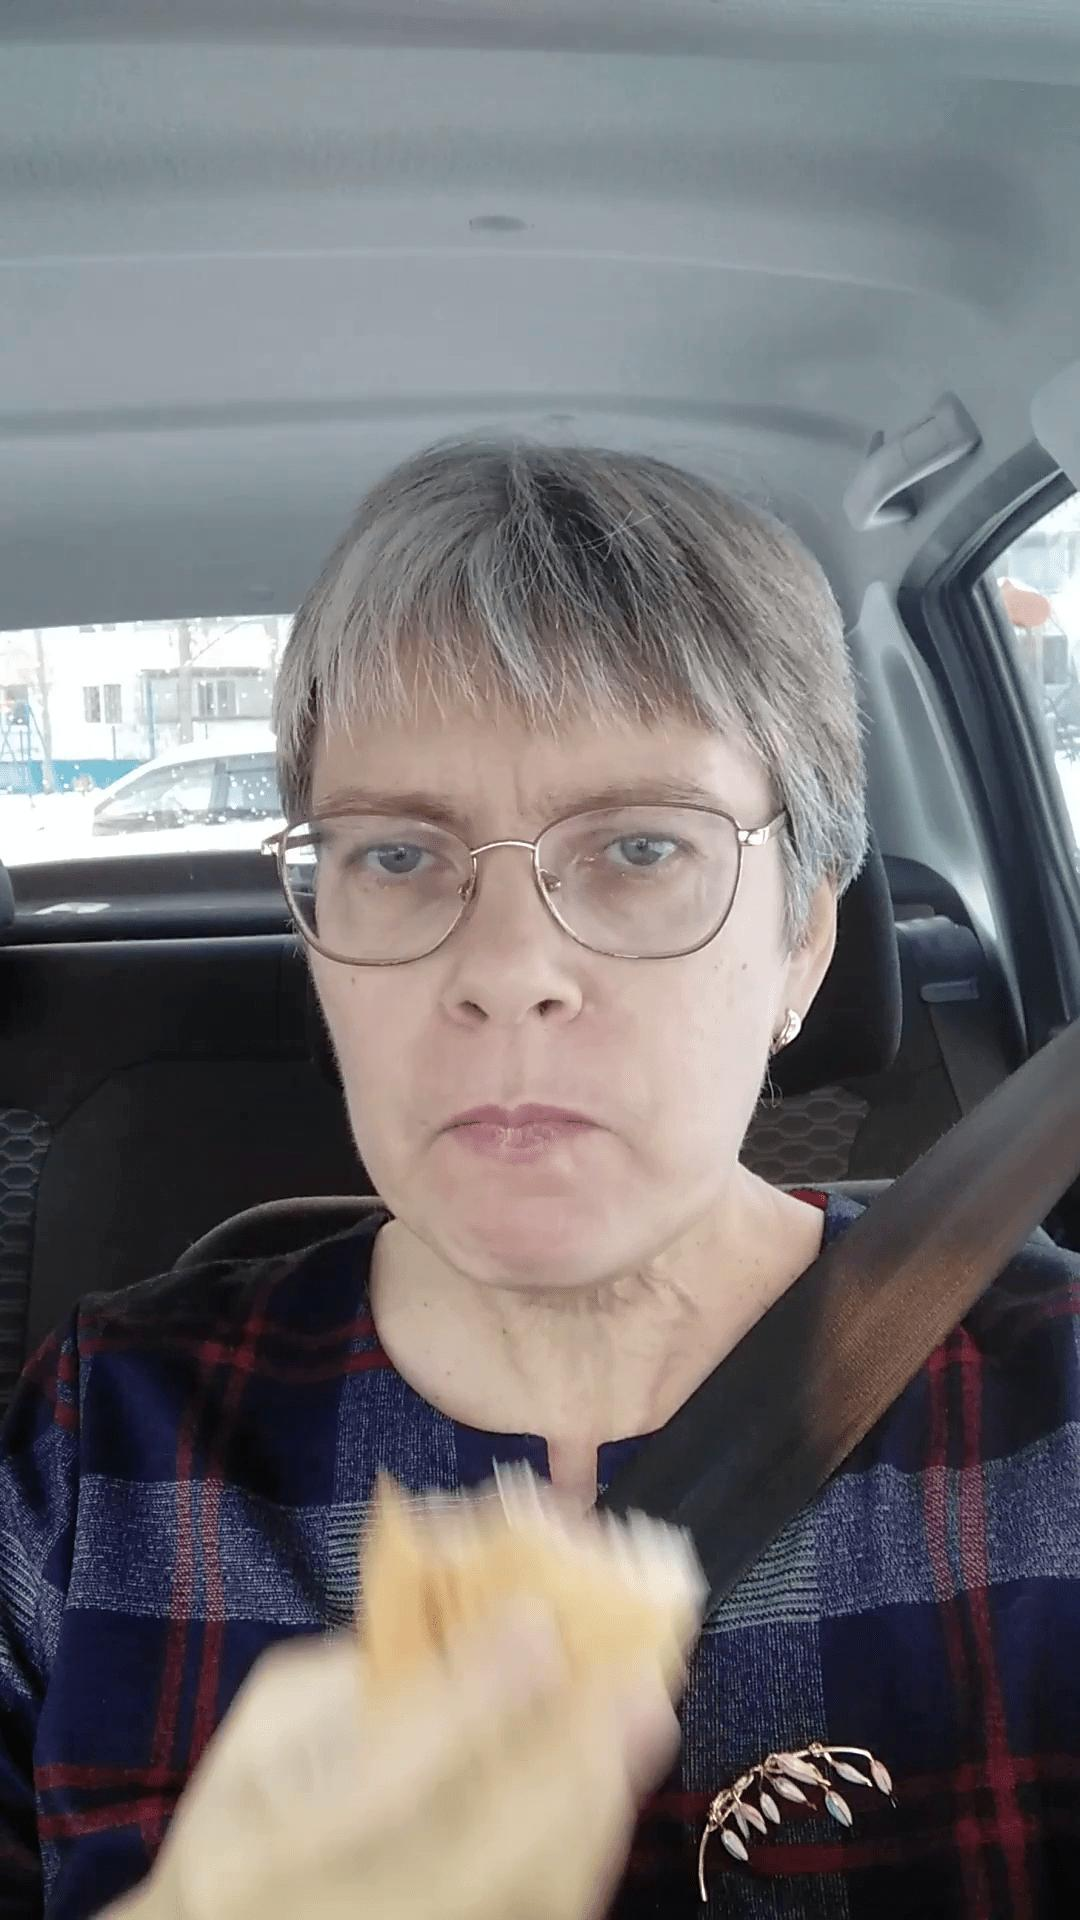Eating: (351, 1439, 704, 1817)
